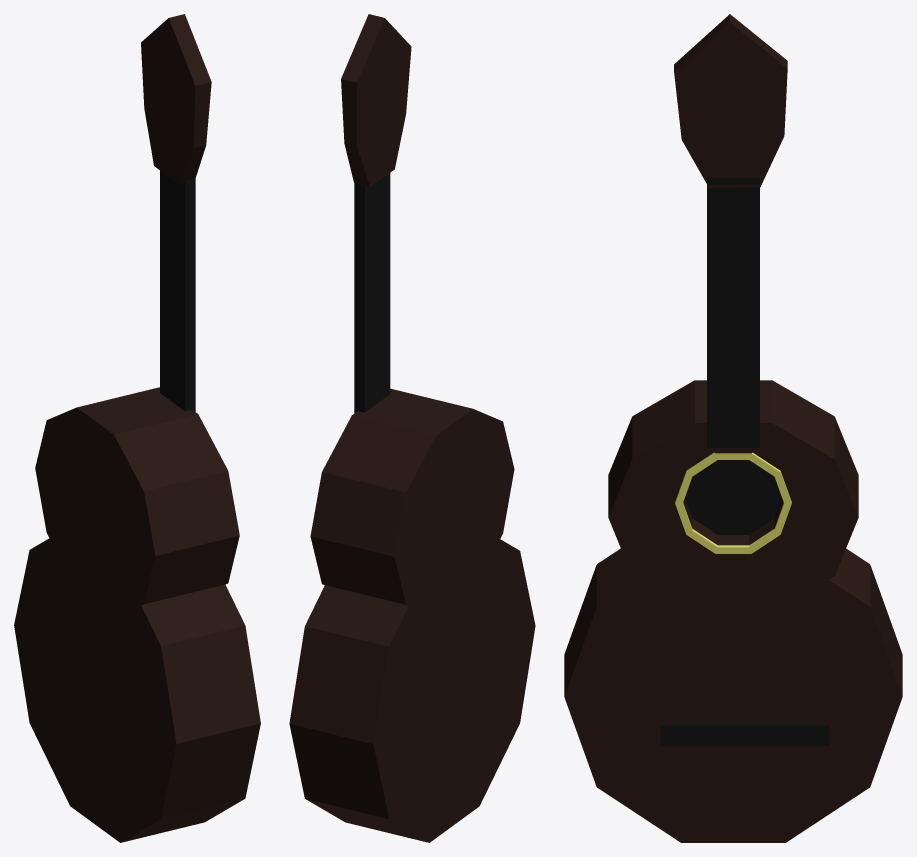
File: Guitar.fbx
The picture shows the model from 3 angles, left to right: view 1: azimuth 30°, elevation 25°; view 2: azimuth 150°, elevation 25°; view 3: azimuth 270°, elevation 25°; orthographic projection. The views are drawn at different scales.
Visible parts, largest first — view 1: Body, Cylinder.001, Fretboard; view 2: Body, Cylinder.001, Fretboard; view 3: Body, Cylinder.001, Fretboard, Cube.
Part boxes in pixels (x1,y1,x2,y2): Body: [14, 387, 260, 842]; Cylinder.001: [141, 14, 211, 184]; Fretboard: [160, 170, 195, 411]; Body: [289, 388, 535, 842]; Cylinder.001: [341, 14, 411, 186]; Fretboard: [354, 173, 390, 413]; Body: [564, 380, 902, 842]; Cylinder.001: [674, 14, 787, 187]; Fretboard: [707, 177, 759, 447]; Cube: [660, 722, 829, 745].
Size of the model in its own units: 64.28 by 537 by 200.
